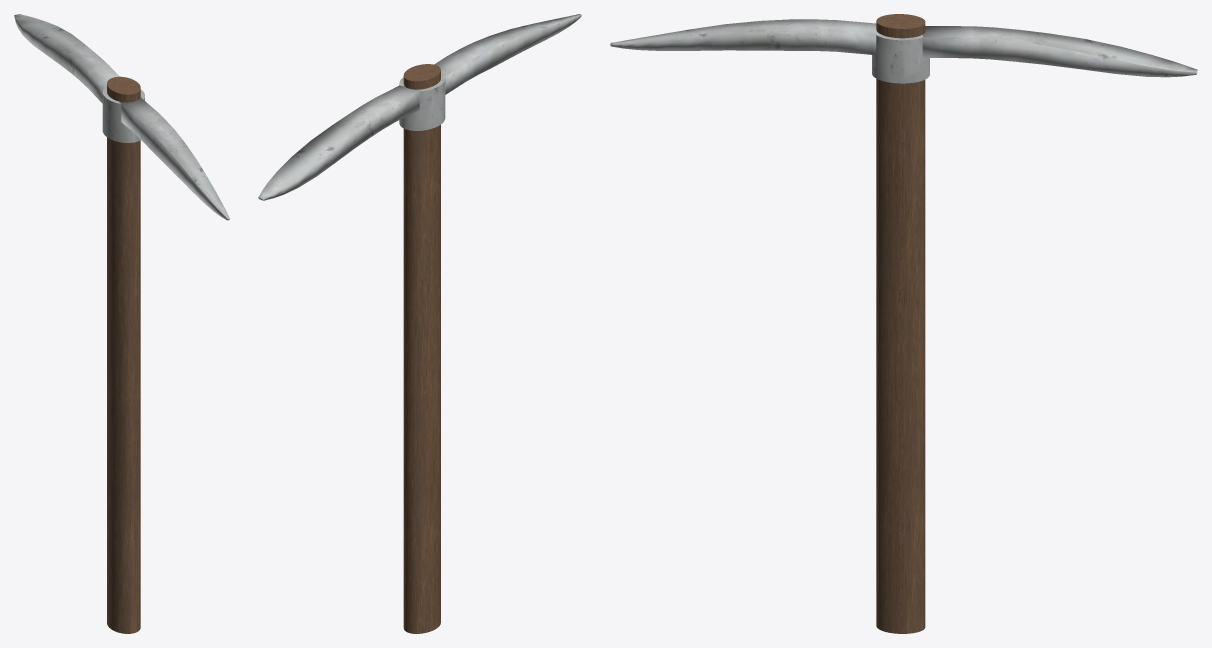
The model's file is pick-exLamPo4.glb.
The picture shows the model from 3 angles, left to right: view 1: azimuth 30°, elevation 25°; view 2: azimuth 150°, elevation 25°; view 3: azimuth 270°, elevation 25°; orthographic projection. The views are drawn at different scales.
Parts seen in each view (by area): view 1: Object_10; view 2: Object_10; view 3: Object_10.
Boxes of the visible parts, x1,y1,x2,y2 form: Object_10: (14,14,229,633); Object_10: (258,14,581,633); Object_10: (610,14,1197,633).
Bounding box in the file's own units: 0.0853 × 0.75 × 0.66.
Materials: 2 (2 with a texture image).
